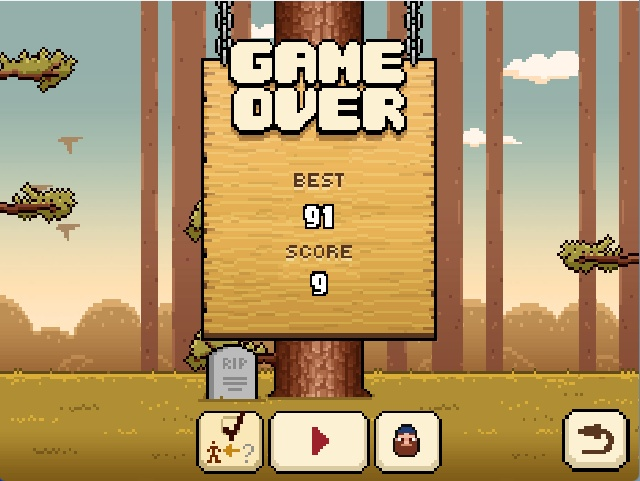game_over: (226, 35, 412, 144)
